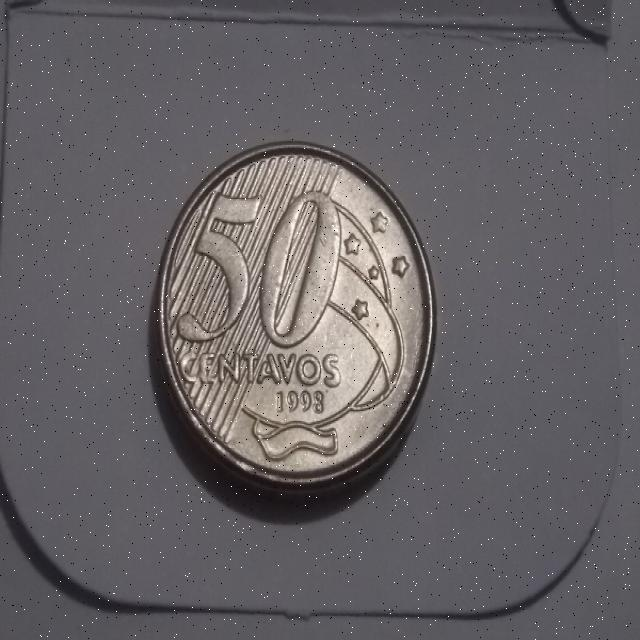50 cent: (166, 140, 434, 486)
